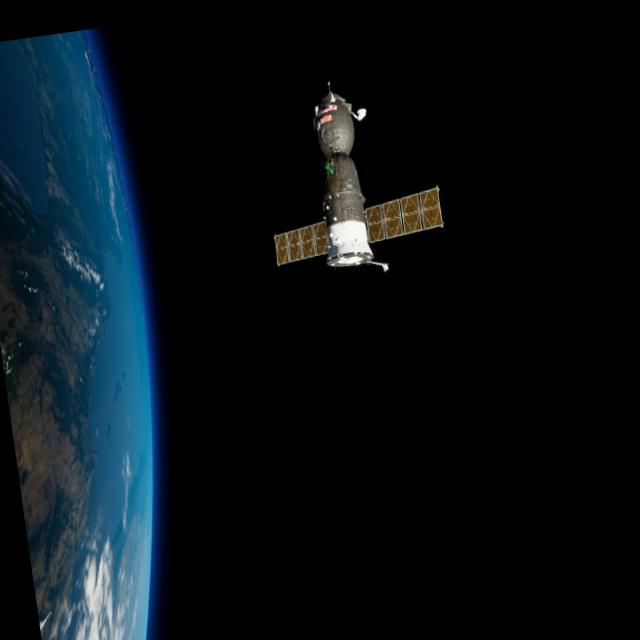Satellites revolving around earth: (0, 28, 195, 640), (250, 65, 452, 289)
